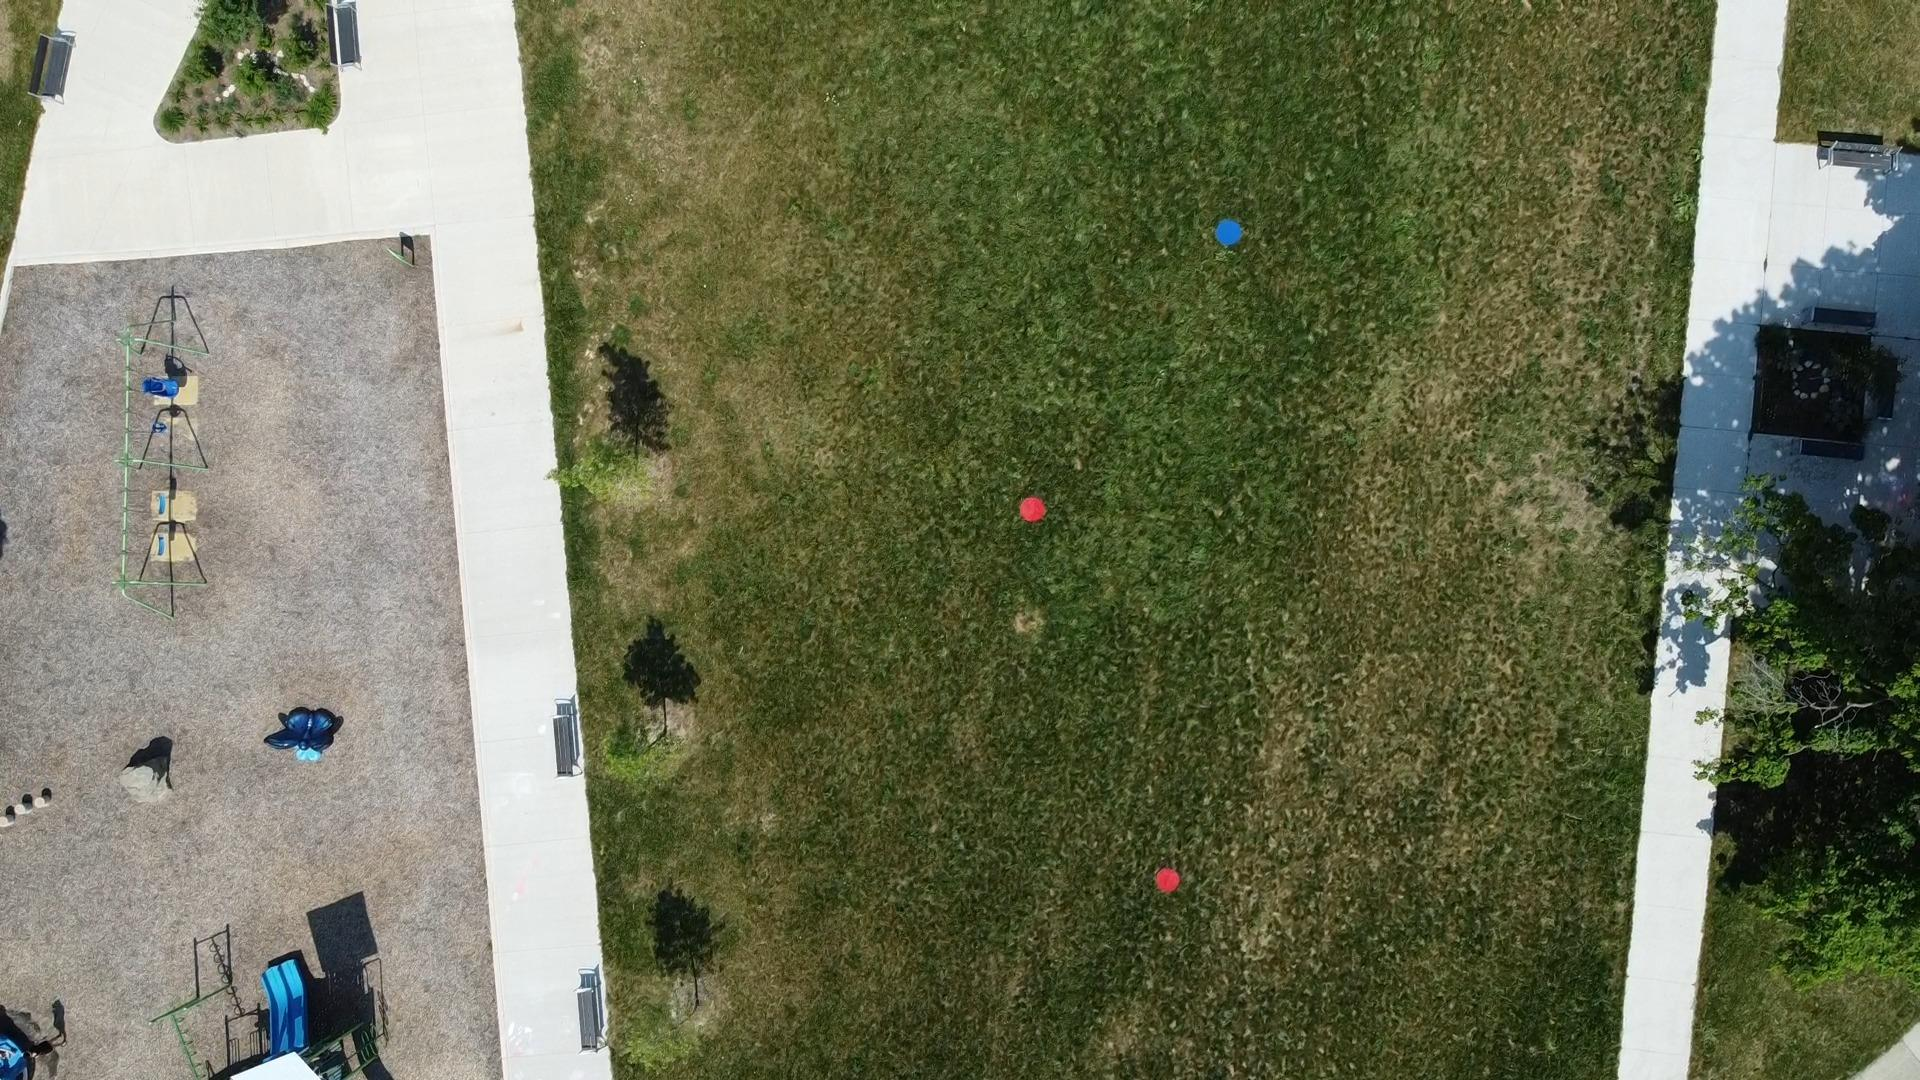Blue: (1215, 219, 1242, 247)
Red: (1018, 497, 1047, 524), (1155, 866, 1182, 893)
